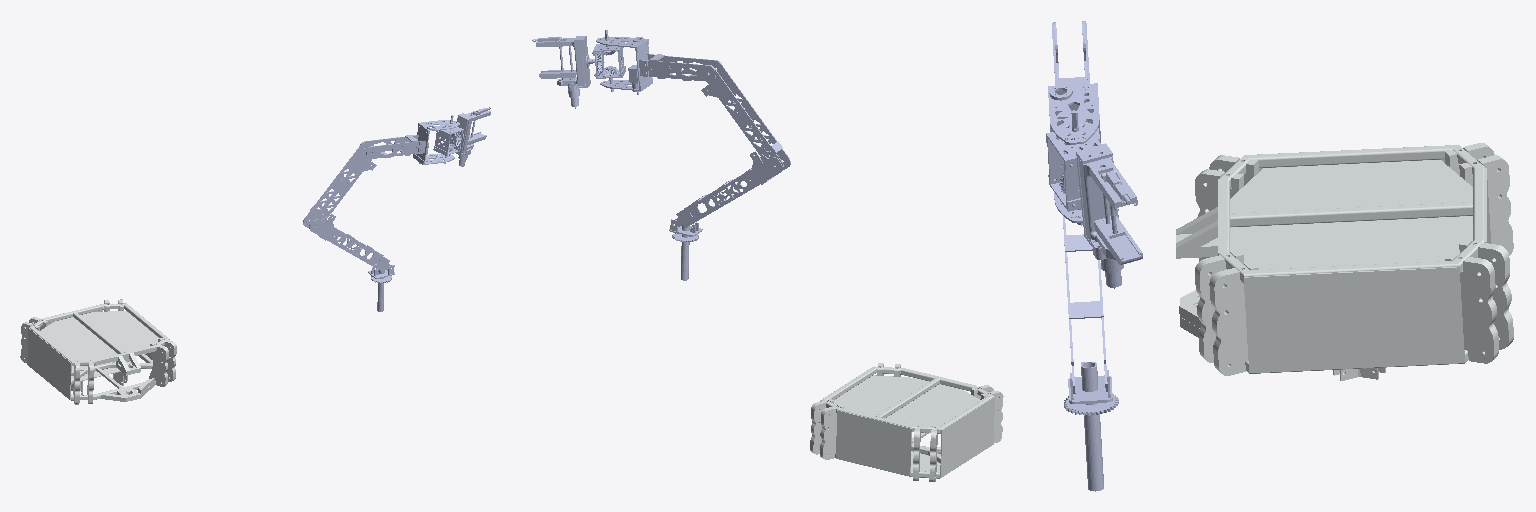
robot.urdf — New Arm(urdf)2:
<?xml version="1.0" encoding="utf-8"?>
<!-- This URDF was automatically created by SolidWorks to URDF Exporter! Originally created by Stephen Brawner (brawner@gmail.com) 
     Commit Version: 1.6.0-4-g7f85cfe  Build Version: 1.6.7995.38578
     For more information, please see http://wiki.ros.org/sw_urdf_exporter -->
<robot
  name="New Arm(urdf)2">
<link name="worldb"/>

    <joint name="world_joint" type="fixed">
      <parent link="worldb"/>
      <child link="base_link"/>
      <origin xyz="0 0 0" rpy="-1.518 0 0"/>
     
    </joint>

  <link
    name="base_link">
    <inertial>
      <origin
        xyz="0.15197 0.078447 0.21413"
        rpy="0 0 0" />
      <mass
        value="12.767" />
      <inertia
        ixx="0.076218"
        ixy="0.0052589"
        ixz="0.0011083"
        iyy="0.1036"
        iyz="-0.00048058"
        izz="0.076242" />
    </inertial>
    <visual>
      <origin
        xyz="0 0 0"
        rpy="0 0 0" />
      <geometry>
        <mesh
          filename="../meshes/base_link.STL" />
      </geometry>
      <material
        name="">
        <color
          rgba="0.89804 0.91765 0.92941 1" />
      </material>
    </visual>
    <collision>
      <origin
        xyz="0 0 0"
        rpy="0 0 0" />
      <geometry>
        <mesh
          filename="../meshes/base_link.STL" />
      </geometry>
    </collision>
  </link>
  <link
    name="tt">
    <inertial>
      <origin
        xyz="-1.9736E-05 0.1536 -0.00077976"
        rpy="0 0 0" />
      <mass
        value="0.12993" />
      <inertia
        ixx="0.00032026"
        ixy="6.6005E-08"
        ixz="-4.3915E-07"
        iyy="0.00010911"
        iyz="2.6078E-06"
        izz="0.00030292" />
    </inertial>
    <visual>
      <origin
        xyz="0 0 0"
        rpy="0 0 0" />
      <geometry>
        <mesh
          filename="../meshes/tt.STL" />
      </geometry>
      <material
        name="">
        <color
          rgba="0.79216 0.81961 0.93333 1" />
      </material>
    </visual>
    <collision>
      <origin
        xyz="0 0 0"
        rpy="0 0 0" />
      <geometry>
        <mesh
          filename="../meshes/tt.STL" />
      </geometry>
    </collision>
  </link>
  <joint
    name="tt"
    type="revolute">
    <origin
      xyz="1.31 -0.0548 -0.212"
      rpy="-3.1416 1.5708 0" />
    <parent
      link="base_link" />
    <child
      link="tt" />
    <axis
      xyz="0 -1 0" />
    <limit
      lower="-6.28"
      upper="6.28"
      effort="0"
      velocity="0" />
  </joint>
  <link
    name="link1">
    <inertial>
      <origin
        xyz="-0.0340000000000024 0.185638009583591 0.227327343793081"
        rpy="0 0 0" />
      <mass
        value="0.229444432647079" />
      <inertia
        ixx="0.00517995575355324"
        ixy="-1.13890042344786E-18"
        ixz="-1.69067776271958E-18"
        iyy="0.00307630079481334"
        iyz="-0.00244340869793796"
        izz="0.00212147001056029" />
    </inertial>
    <visual>
      <origin
        xyz="0 0 0"
        rpy="0 0 0" />
      <geometry>
        <mesh
          filename="../meshes/link1.STL" />
      </geometry>
      <material
        name="">
        <color
          rgba="0.792156862745098 0.819607843137255 0.933333333333333 1" />
      </material>
    </visual>
    <collision>
      <origin
        xyz="0 0 0"
        rpy="0 0 0" />
      <geometry>
        <mesh
          filename="../meshes/link1.STL" />
      </geometry>
    </collision>
  </link>
  <joint
    name="link1"
    type="revolute">
    <origin
      xyz="0.033255 0.2121 -0.029851"
      rpy="0 0.025305 0" />
    <parent
      link="tt" />
    <child
      link="link1" />
    <axis
      xyz="-1 0 0" />
    <limit
      lower="-3.14"
      upper="3.14"
      effort="0"
      velocity="0" />
  </joint>
  <link
    name="link2">
    <inertial>
      <origin
        xyz="0.028000000000014 0.151085436627092 -0.145850255195239"
        rpy="0 0 0" />
      <mass
        value="0.209369199831917" />
      <inertia
        ixx="0.00359156187538785"
        ixy="-6.14364096535471E-19"
        ixz="3.62530101424841E-19"
        iyy="0.0017899965671378"
        iyz="0.00170843639396794"
        izz="0.00180491914611627" />
    </inertial>
    <visual>
      <origin
        xyz="0 0 0"
        rpy="0 0 0" />
      <geometry>
        <mesh
          filename="../meshes/link2.STL" />
      </geometry>
      <material
        name="">
        <color
          rgba="0.792156862745098 0.819607843137255 0.933333333333333 1" />
      </material>
    </visual>
    <collision>
      <origin
        xyz="0 0 0"
        rpy="0 0 0" />
      <geometry>
        <mesh
          filename="../meshes/link2.STL" />
      </geometry>
    </collision>
  </link>
  <joint
    name="link2"
    type="revolute">
    <origin
      xyz="-0.062 0.30929 0.39286"
      rpy="0 0 0" />
    <parent
      link="link1" />
    <child
      link="link2" />
    <axis
      xyz="1 0 0" />
    <limit
      lower="-3.14"
      upper="3.14"
      effort="0"
      velocity="0" />
  </joint>
  <link
    name="link3">
    <inertial>
      <origin
        xyz="-0.0224419253502595 -0.0458110944968314 0.250321755506889"
        rpy="0 0 0" />
      <mass
        value="0.434663057886458" />
      <inertia
        ixx="0.00151940083284689"
        ixy="7.82235915987114E-07"
        ixz="1.07698692467981E-07"
        iyy="0.00141443101254521"
        iyz="0.000146264122895242"
        izz="0.000370638003884554" />
    </inertial>
    <visual>
      <origin
        xyz="0 0 0"
        rpy="0 0 0" />
      <geometry>
        <mesh
          filename="../meshes/link3.STL" />
      </geometry>
      <material
        name="">
        <color
          rgba="0.792156862745098 0.819607843137255 0.933333333333333 1" />
      </material>
    </visual>
    <collision>
      <origin
        xyz="0 0 0"
        rpy="0 0 0" />
      <geometry>
        <mesh
          filename="../meshes/link3.STL" />
      </geometry>
    </collision>
  </link>
  <joint
    name="link3"
    type="revolute">
    <origin
      xyz="0 0.29017 -0.27532"
      rpy="3.1416 0 3.1416" />
    <parent
      link="link2" />
    <child
      link="link3" />
    <axis
      xyz="-1 0 0" />
    <limit
      lower="-3.14"
      upper="3.14"
      effort="0"
      velocity="0" />
  </joint>
  <link
    name="ypr pitch">
    <inertial>
      <origin
        xyz="0.0258725407179815 -5.19410787384045E-05 -1.73703121094659E-05"
        rpy="0 0 0" />
      <mass
        value="0.199246612726693" />
      <inertia
        ixx="0.000156216651475295"
        ixy="-4.10052725417298E-11"
        ixz="-1.88388917346243E-11"
        iyy="0.000126364961370385"
        iyz="-5.34006523912841E-06"
        izz="0.000140559243483286" />
    </inertial>
    <visual>
      <origin
        xyz="0 0 0"
        rpy="0 0 0" />
      <geometry>
        <mesh
          filename="../meshes/ypr pitch.STL" />
      </geometry>
      <material
        name="">
        <color
          rgba="0.792156862745098 0.819607843137255 0.933333333333333 1" />
      </material>
    </visual>
    <collision>
      <origin
        xyz="0 0 0"
        rpy="0 0 0" />
      <geometry>
        <mesh
          filename="../meshes/ypr pitch.STL" />
      </geometry>
    </collision>
  </link>
  <joint
    name="ypr pitch"
    type="revolute">
    <origin
      xyz="-0.028 -0.077678 0.40923"
      rpy="-1.5708 -0.13663 1.5708" />
    <parent
      link="link3" />
    <child
      link="ypr pitch" />
    <axis
      xyz="-1 0 0" />
    <limit
      lower="-3.14"
      upper="3.14"
      effort="0"
      velocity="0" />
  </joint>
  <link
    name="ypr roll">
    <inertial>
      <origin
        xyz="-0.00297090446320836 -0.0104358339225067 -0.0897272059511462"
        rpy="0 0 0" />
      <mass
        value="0.598549884728632" />
      <inertia
        ixx="0.00102198673239933"
        ixy="-1.43192054707853E-05"
        ixz="2.36714459386942E-06"
        iyy="0.000580572054629292"
        iyz="5.83228149987117E-05"
        izz="0.000707333999702111" />
    </inertial>
    <visual>
      <origin
        xyz="0 0 0"
        rpy="0 0 0" />
      <geometry>
        <mesh
          filename="../meshes/ypr roll.STL" />
      </geometry>
      <material
        name="">
        <color
          rgba="0.792156862745098 0.819607843137255 0.933333333333333 1" />
      </material>
    </visual>
    <collision>
      <origin
        xyz="0 0 0"
        rpy="0 0 0" />
      <geometry>
        <mesh
          filename="../meshes/ypr roll.STL" />
      </geometry>
    </collision>
  </link>
  <joint
    name="ypr roll"
    type="revolute">
    <origin
      xyz="0.025873 -0.021203 -0.0070861"
      rpy="0.010968 -1.2482 -1.5824" />
    <parent
      link="ypr pitch" />
    <child
      link="ypr roll" />
    <axis
      xyz="0 0 -1" />
    <limit
      lower="-3.14"
      upper="3.14"
      effort="0"
      velocity="0" />
  </joint>
  <link
    name="claw">
    <inertial>
      <origin
        xyz="-0.0140636335800565 0.121493659274111 0.0387971752593232"
        rpy="0 0 0" />
      <mass
        value="0.0861437294327855" />
      <inertia
        ixx="0.000113478077427995"
        ixy="7.62682337863518E-07"
        ixz="3.09691019174081E-05"
        iyy="0.000120875433111426"
        iyz="-2.10400250837131E-06"
        izz="3.92700179471421E-05" />
    </inertial>
    <visual>
      <origin
        xyz="0 0 0"
        rpy="0 0 0" />
      <geometry>
        <mesh
          filename="../meshes/claw.STL" />
      </geometry>
      <material
        name="">
        <color
          rgba="0.792156862745098 0.819607843137255 0.933333333333333 1" />
      </material>
    </visual>
    <collision>
      <origin
        xyz="0 0 0"
        rpy="0 0 0" />
      <geometry>
        <mesh
          filename="../meshes/claw.STL" />
      </geometry>
    </collision>
  </link>
  <joint
    name="claw"
    type="fixed">
    <origin
      xyz="-0.00027829 0.08223 -0.11311"
      rpy="3.1416 -0.34776 -0.032181" />
    <parent
      link="ypr roll" />
    <child
      link="claw" />
    <axis
      xyz="0 -1 0" />
    <limit
      lower="-3.14"
      upper="3.14"
      effort="0"
      velocity="0" />
  </joint>
</robot>

--- What the picture shows (computed from the rendered views, not written in the file) ---
Views: 3 orthographic renders of the robot side by side, from view 1: azimuth 30°, elevation 25°; view 2: azimuth 150°, elevation 25°; view 3: azimuth 270°, elevation 25°.
Model New Arm(urdf)2 with 9 links and 8 joints (6 revolute, 2 fixed), rooted at worldb, posed all joints at 0.
Links seen in each view (by area): view 1: base_link, link3, link2, link1, ypr roll, ypr pitch; view 2: base_link, link3, link2, link1, ypr roll, tt, ypr pitch; view 3: base_link, ypr roll, link3, tt, ypr pitch, link1, claw.
Link boxes in pixels (x1,y1,x2,y2): base_link: [20, 299, 176, 404]; link3: [360, 120, 459, 164]; link2: [303, 142, 376, 227]; link1: [303, 211, 391, 271]; ypr roll: [450, 107, 490, 166]; ypr pitch: [433, 115, 463, 163]; base_link: [810, 363, 1003, 481]; link3: [596, 37, 721, 94]; link2: [701, 61, 789, 168]; link1: [674, 148, 790, 227]; ypr roll: [532, 36, 604, 108]; tt: [669, 219, 702, 280]; ypr pitch: [592, 30, 625, 91]; base_link: [1176, 143, 1513, 380]; ypr roll: [1060, 143, 1137, 288]; link3: [1048, 21, 1100, 222]; tt: [1064, 362, 1118, 491]; ypr pitch: [1046, 110, 1100, 225]; link1: [1063, 216, 1107, 393]; claw: [1094, 167, 1142, 264].
Bounding box of the posed robot: 2 × 0.8052 × 1.15 m (x, y, z).
8 mesh visuals loaded from 8 distinct referenced files (8 binary STL).
